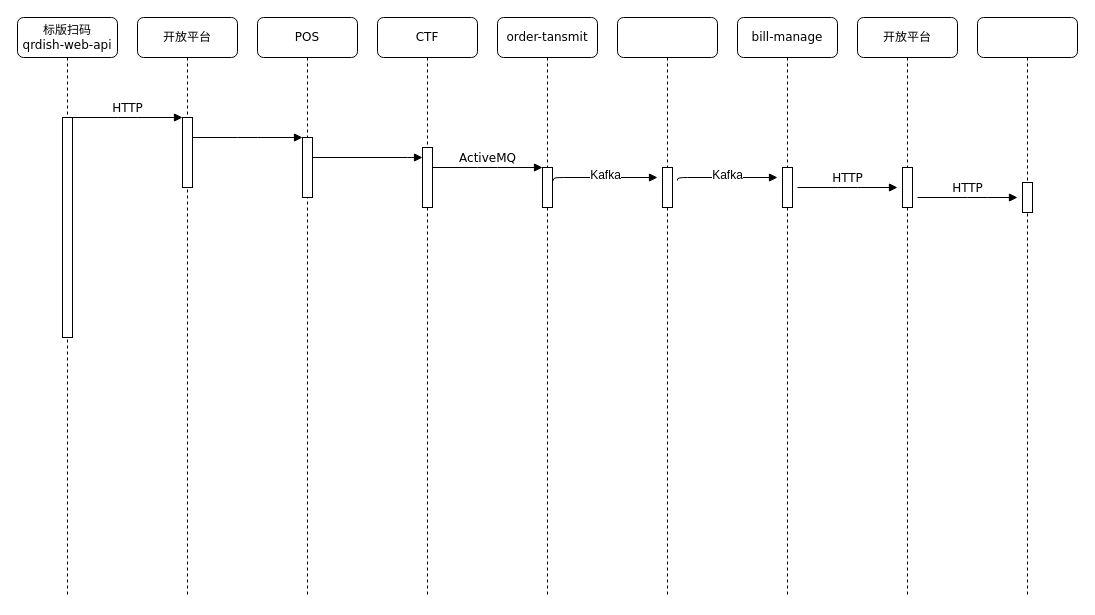
Some shapes in this 1095 by 615 pixel diagram are drawn without their labels. Each missing label, with the box of its shape:
choie-bill-center: (616, 16, 718, 598)
永和CEM: (976, 16, 1078, 598)
